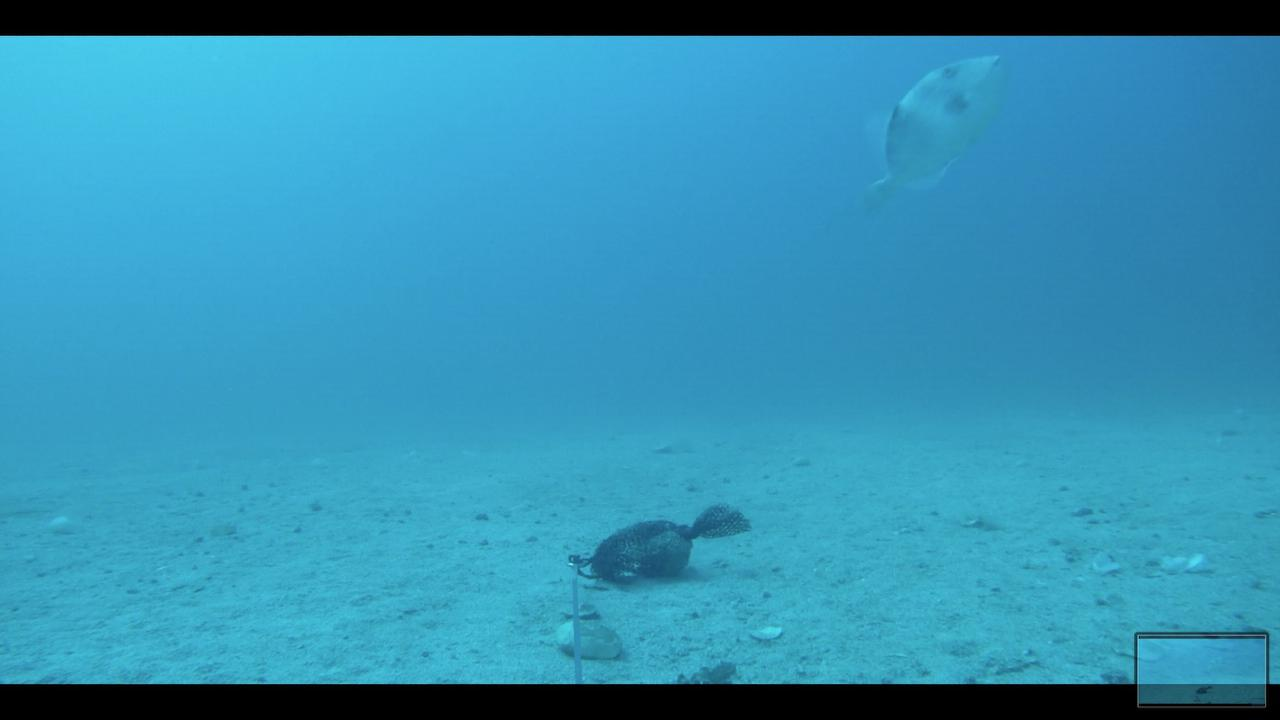balistes: (845, 51, 1007, 226)
